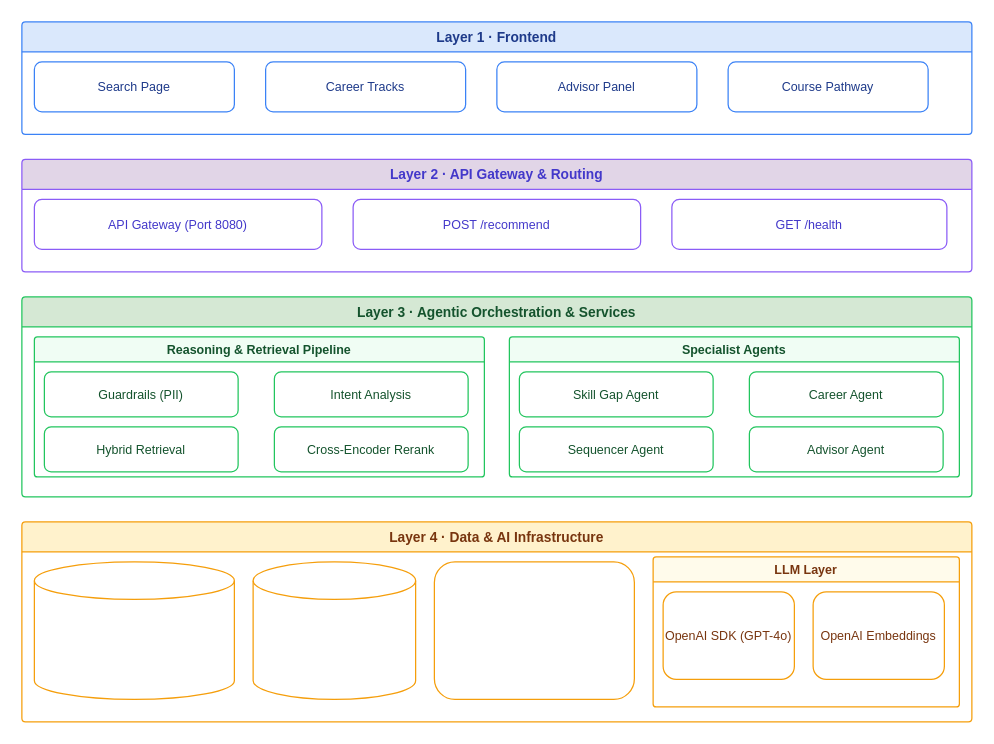
This 994x744 diagram has some shape labels left out. The centre of each missing label's shape, as x and y in pixels:
"BM25 Index" belongs at [334,630].
"Cross-Encoder Model (ms-marco)" belongs at [533,630].
"Vector DB (Qdrant)" belongs at [133,630].
